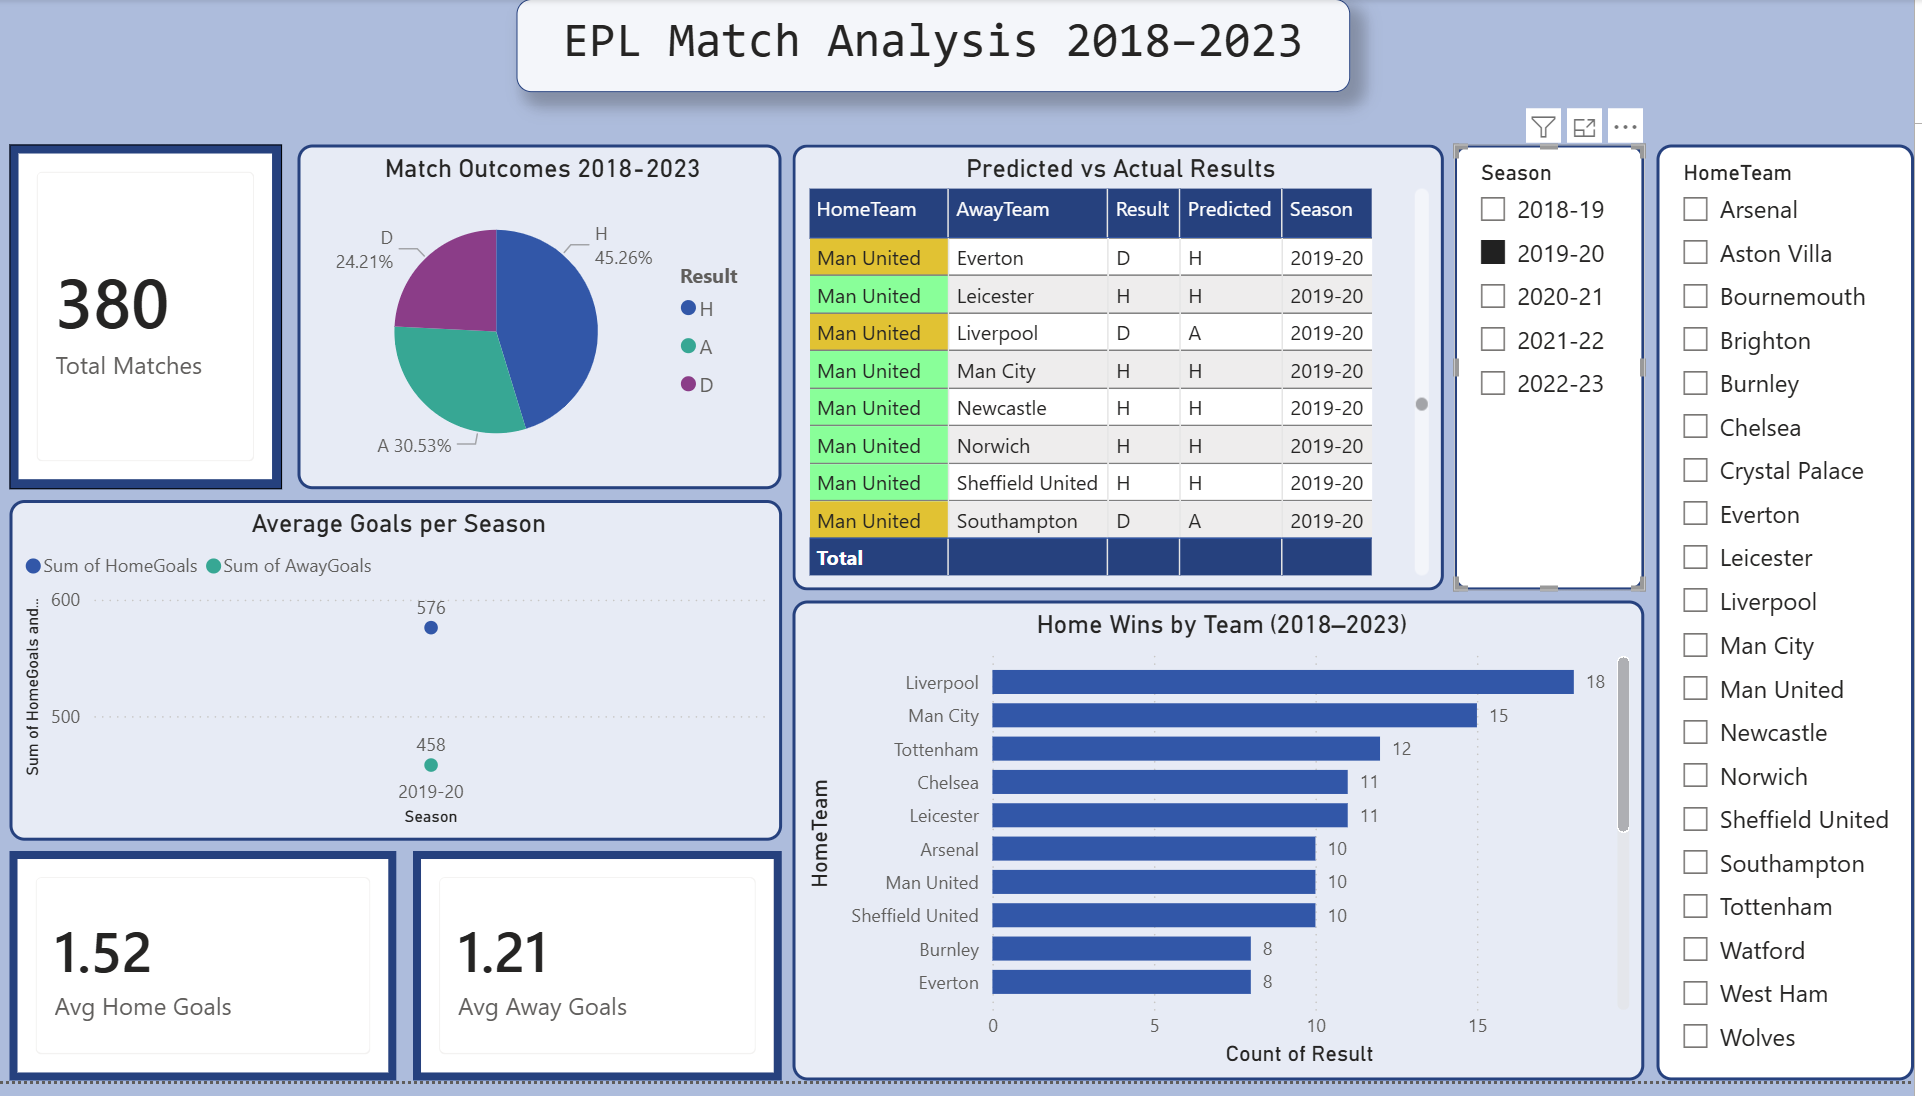

The dashboard page shown, as its layout file describes it:
{"tool":"powerbi","page":{"name":"Page 1","canvas":[1280,720],"ordinal":0},"visuals":[{"type":"pieChart","title":"Match Outcomes 2018-2023","fields":{"Category":["epl_clean_with_predictions.Result"],"Y":["CountNonNull(epl_clean_with_predictions.Result)"]},"box":[204.6,96.8,322.3,229.5],"z":0},{"type":"lineChart","title":"Average Goals per Season","fields":{"Category":["epl_clean_with_predictions.Season"],"Y":["Sum(epl_clean_with_predictions.HomeGoals)","Sum(epl_clean_with_predictions.AwayGoals)"]},"box":[13,333.3,513.9,226.5],"z":1000},{"type":"clusteredBarChart","title":"Home Wins by Team (2018–2023)","fields":{"Category":["epl_clean_with_predictions.HomeTeam"],"Y":["CountNonNull(epl_clean_with_predictions.Result)"]},"box":[533.9,400.2,566.8,319.3],"z":2000},{"type":"tableEx","title":"Predicted vs Actual Results","fields":{"Values":["epl_clean_with_predictions.HomeTeam","epl_clean_with_predictions.AwayTeam","epl_clean_with_predictions.Result","epl_clean_with_predictions.Predicted","epl_clean_with_predictions.Season"]},"box":[533.9,96.8,433.1,296.4],"z":3000},{"type":"slicer","fields":{"Values":["epl_clean_with_predictions.Season"]},"box":[974,96.8,126.7,296.4],"z":4000},{"type":"slicer","fields":{"Values":["epl_clean_with_predictions.HomeTeam"]},"box":[1108.7,96.8,171.6,622.7],"z":5000},{"type":"textbox","box":[350.3,0,554.8,61.9],"z":6000},{"type":"cardVisual","fields":{"Data":["CountNonNull(epl_clean_with_predictions.Result)"]},"box":[13,96.8,181.6,229.5],"z":7000},{"type":"cardVisual","fields":{"Data":["Avg(epl_clean_with_predictions.HomeGoals)"]},"box":[13,566.8,257.5,152.7],"z":8000},{"type":"cardVisual","fields":{"Data":["Avg(epl_clean_with_predictions.AwayGoals)"]},"box":[281.4,566.8,245.5,152.7],"z":9000}]}

Visuals, with their boxes in screenshot pixels (x1, y1, x2, y2), scaled from the page's 1280x720 canvas onto the 1922x1096 screenshot:
"Match Outcomes 2018-2023" pieChart: Rect(307, 147, 791, 497)
"Average Goals per Season" lineChart: Rect(20, 507, 791, 852)
"Home Wins by Team (2018–2023)" clusteredBarChart: Rect(802, 609, 1653, 1095)
"Predicted vs Actual Results" tableEx: Rect(802, 147, 1452, 599)
slicer - epl_clean_with_predictions.Season: Rect(1463, 147, 1653, 599)
slicer - epl_clean_with_predictions.HomeTeam: Rect(1665, 147, 1921, 1095)
textbox: Rect(526, 0, 1359, 94)
cardVisual - CountNonNull(epl_clean_with_predictions.Result): Rect(20, 147, 292, 497)
cardVisual - Avg(epl_clean_with_predictions.HomeGoals): Rect(20, 863, 406, 1095)
cardVisual - Avg(epl_clean_with_predictions.AwayGoals): Rect(423, 863, 791, 1095)
